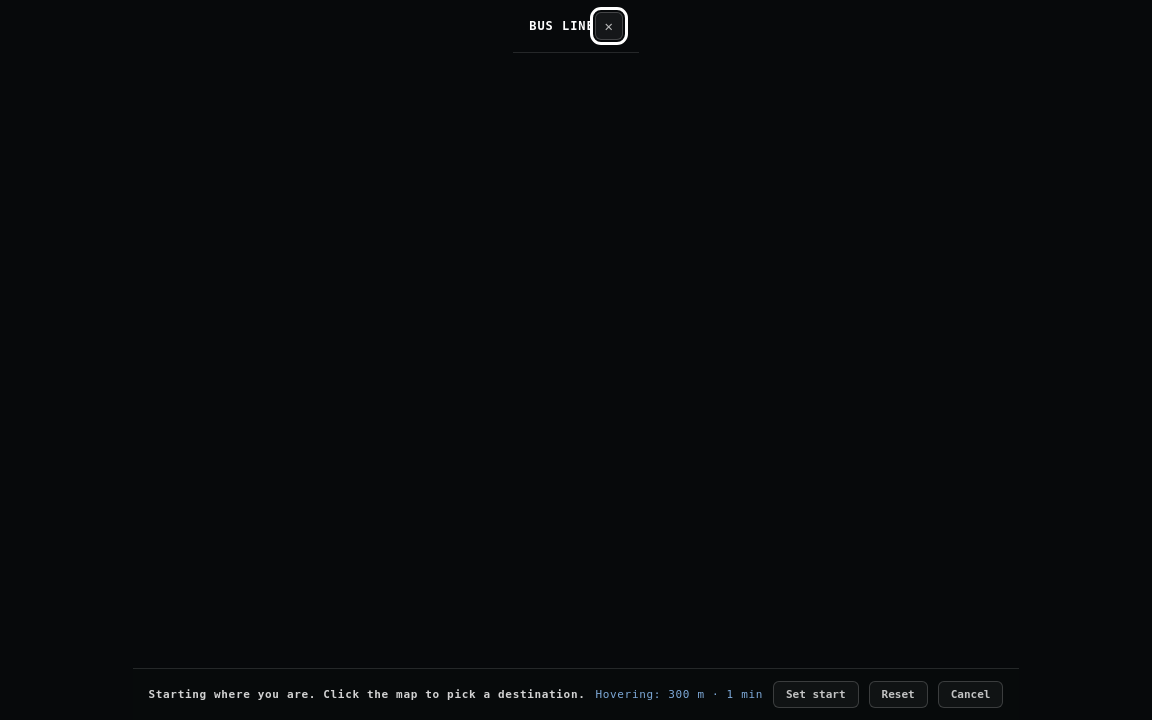
BusOverMap › realtime preview › commits a previewed route without asking the network again
The image size is (1152, 720).
Click the element with test id "bus-map".
click(576, 360)  # box x1=0 y1=53 x2=1151 y2=668
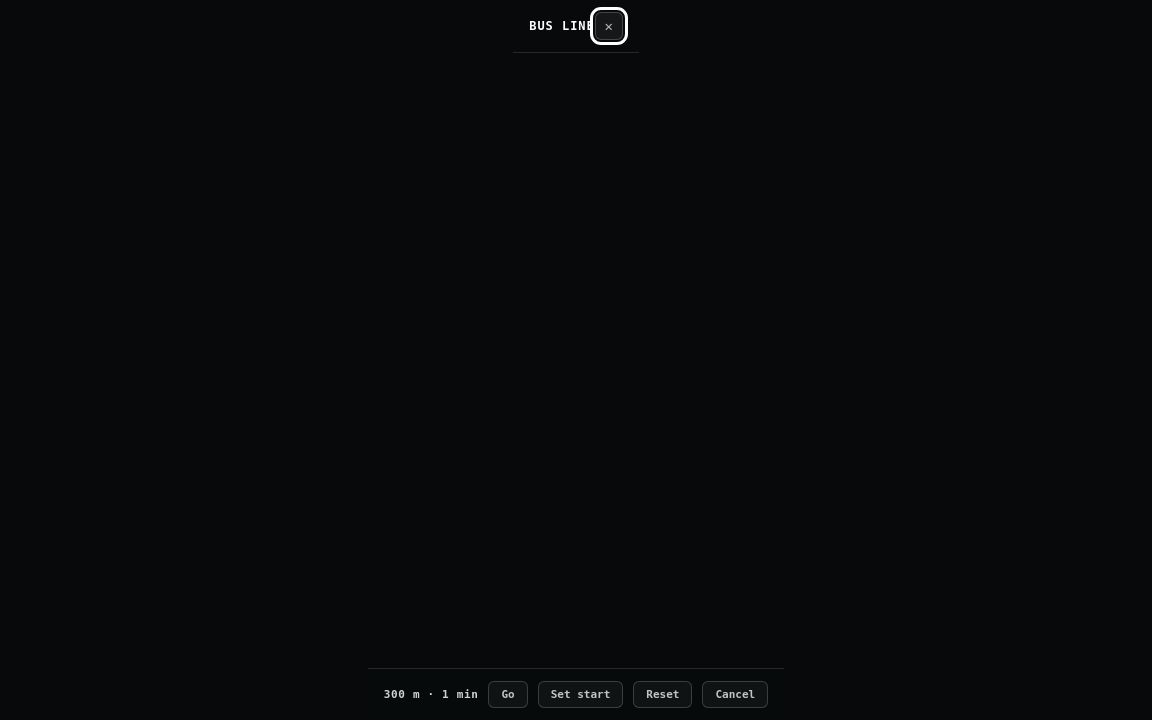
Now the button "Go" is shown, box x1=488 y1=681 x2=528 y2=708
